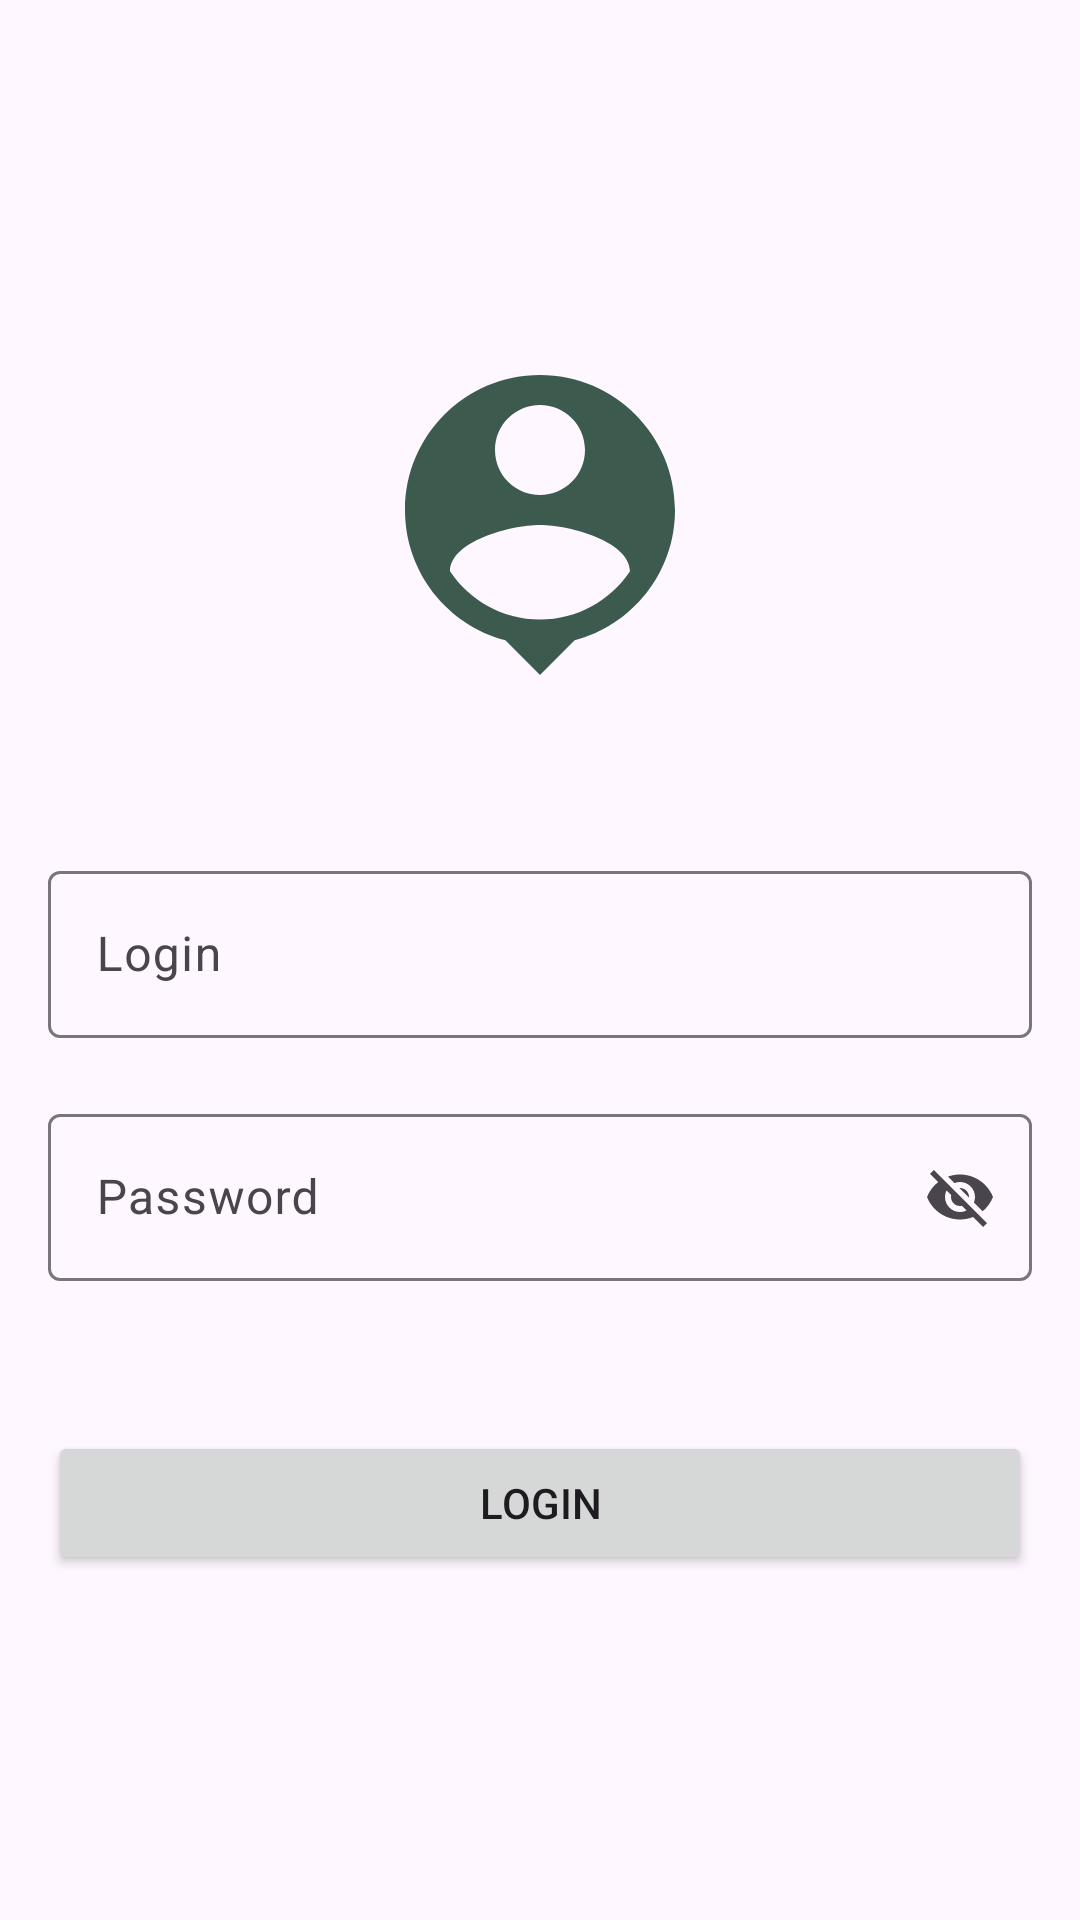

Named icons in this screenshot (1080 x 1920) and their bounding boxes, Rect(x1, y1, x2, y2):
person: Rect(405, 375, 675, 675)
